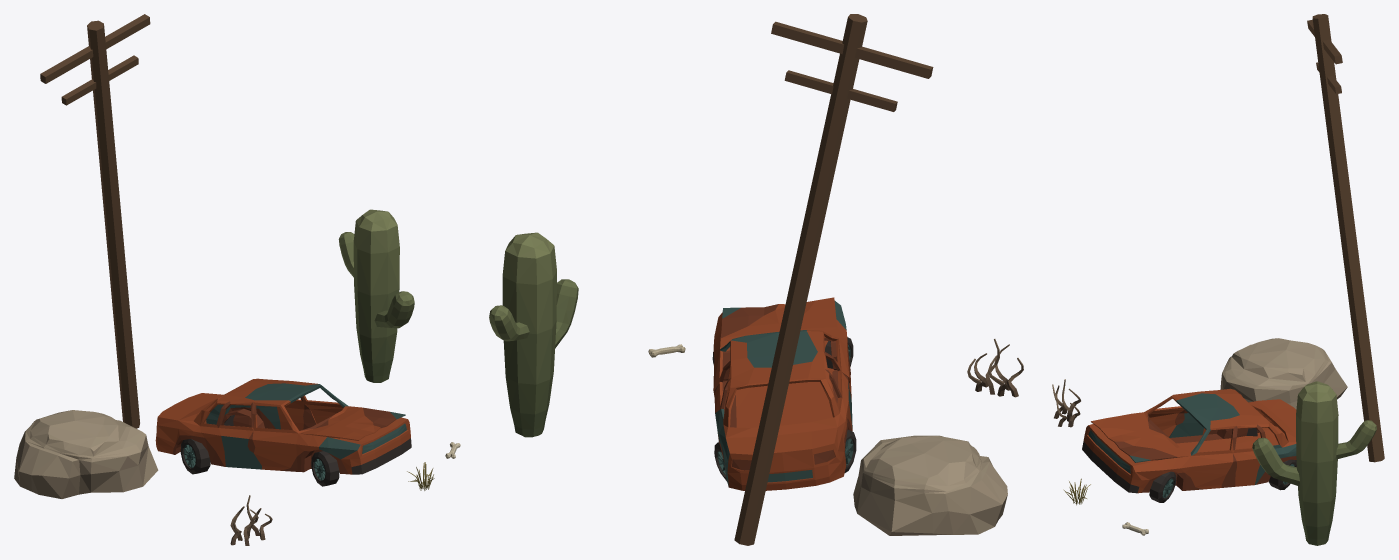
The model's file is LmCar.glb.
3 renders of one model, left to right at view 1: azimuth 30°, elevation 25°; view 2: azimuth 150°, elevation 25°; view 3: azimuth 270°, elevation 25°, orthographic. The views are drawn at different scales.
Parts seen in each view (by area): view 1: LmCar; view 2: LmCar; view 3: LmCar.
Boxes of the visible parts, box(x1,y1,x2,y2) form: LmCar: box(14, 14, 460, 545); LmCar: box(489, 14, 1023, 545); LmCar: box(1052, 14, 1384, 545).
Bounding box in the file's own units: 8.41 × 8.88 × 6.44.
